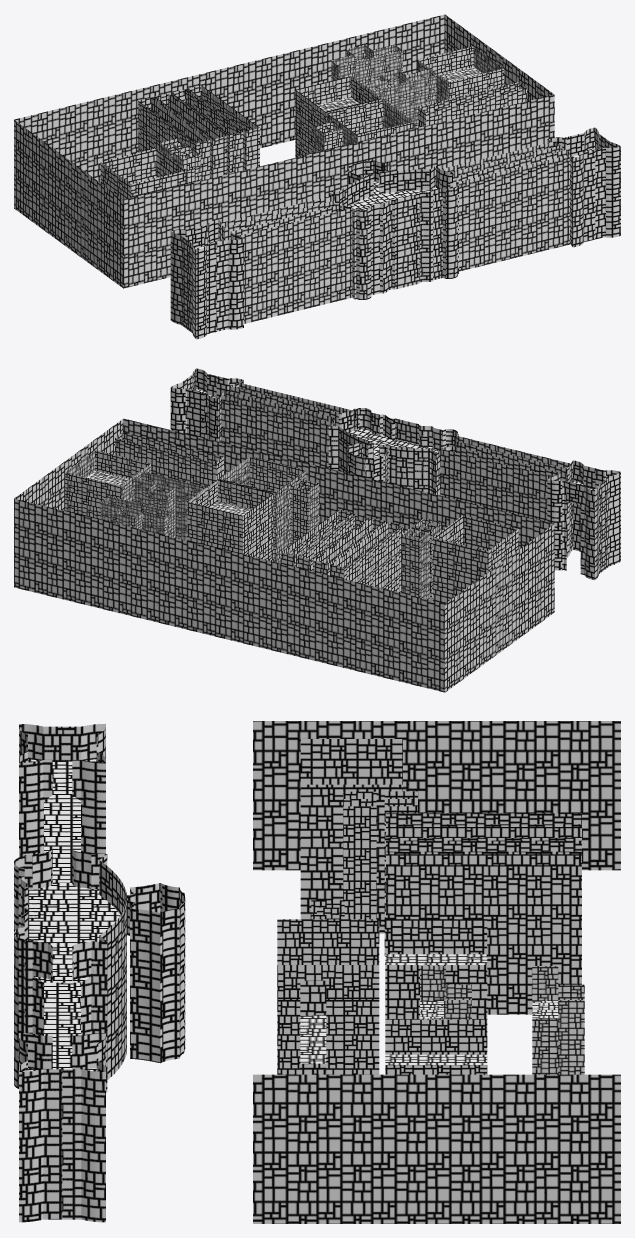
The model's file is Temple2.glb.
The picture shows the model from 3 angles, top to bottom: view 1: azimuth 30°, elevation 25°; view 2: azimuth 150°, elevation 25°; view 3: azimuth 270°, elevation 25°; orthographic projection. The views are drawn at different scales.
Visible parts, largest first — view 1: Entrance, Wall, HallwayChain, CirclesRoom, PillarsRoom, BallsRoom, BridgeRoom, Hallway, StatueHallway1, StatueHallway2, PlusRoom, CrossRoom2; view 2: Wall, Entrance, HallwayChain, CirclesRoom, PillarsRoom, BallsRoom, Hallway, BridgeRoom, StatueHallway1, CrossRoom1, StatueHallway2, PlusRoom (+1 smaller); view 3: Wall, Entrance, HallwayChain, BridgeRoom, PillarsRoom, CirclesRoom, BallsRoom, StatueHallway2, CrossRoom2, Hallway, StatueHallway1, CrossRoom1 (+1 smaller).
Part boxes in pixels (x1,y1,x2,y2): Entrance: (170,127,620,339); Wall: (14,14,554,288); HallwayChain: (138,85,259,180); CirclesRoom: (295,76,381,157); PillarsRoom: (100,148,186,199); BallsRoom: (418,46,503,101); BridgeRoom: (327,100,413,145); Hallway: (418,82,526,127); StatueHallway1: (364,69,436,128); StatueHallway2: (331,44,402,85); PlusRoom: (314,122,342,152); CrossRoom2: (172,147,200,184); Wall: (14,418,554,692); Entrance: (170,368,620,580); HallwayChain: (281,509,402,592); CirclesRoom: (187,480,273,561); PillarsRoom: (432,515,518,603); BallsRoom: (65,450,150,519); Hallway: (115,432,223,487); BridgeRoom: (219,456,305,563); StatueHallway1: (134,471,206,540); CrossRoom1: (401,527,429,599); StatueHallway2: (101,496,172,537); PlusRoom: (290,478,318,544); Wall: (253,721,620,1223); Entrance: (14,723,185,1222); HallwayChain: (386,813,581,1014); BridgeRoom: (277,919,379,1074); PillarsRoom: (300,739,402,933); CirclesRoom: (385,919,487,1019); BallsRoom: (385,1019,487,1074); StatueHallway2: (532,966,584,1074); CrossRoom2: (343,791,376,919); Hallway: (300,980,326,1074); StatueHallway1: (420,966,471,1019); CrossRoom1: (384,791,417,955).
Size of what is drawn, in the model's own units: 130 by 25.85 by 94.19.
2 materials, 1 textured.
